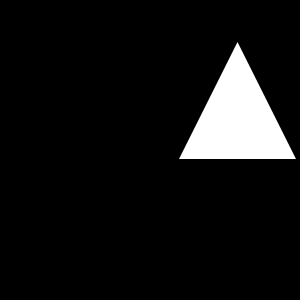triangle: (179, 42, 296, 159)
